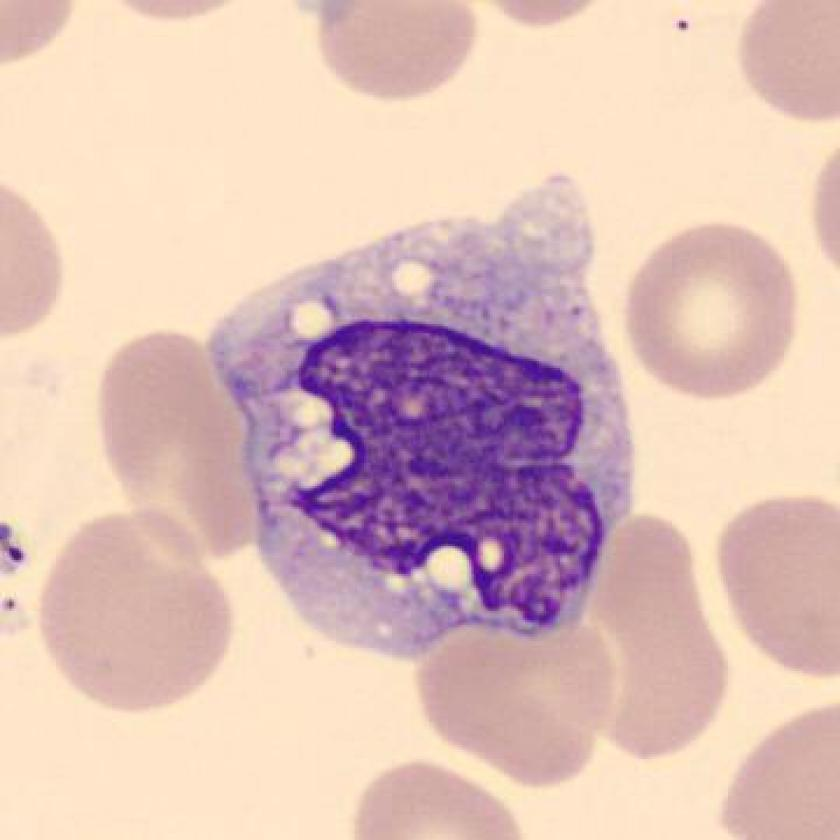monocyte: (197, 159, 657, 675)
